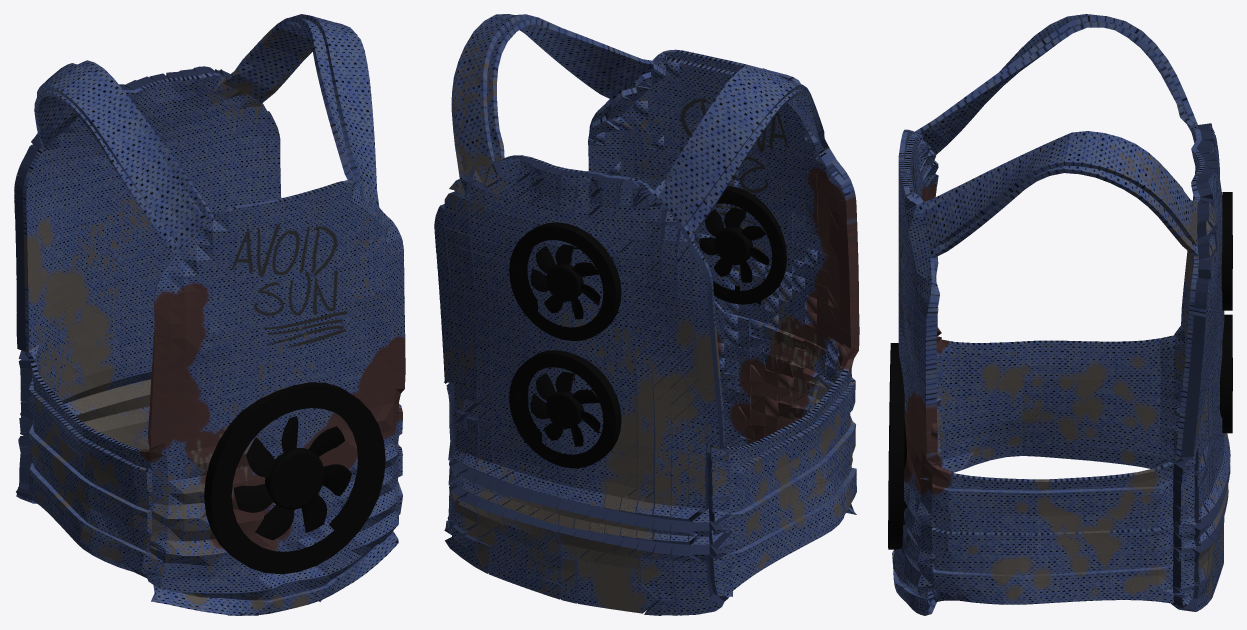
The model's file is vest_final1.glb.
The picture shows the model from 3 angles, left to right: view 1: azimuth 30°, elevation 25°; view 2: azimuth 150°, elevation 25°; view 3: azimuth 270°, elevation 25°; orthographic projection. The views are drawn at different scales.
Visible parts, largest first — view 1: MMAC_01 - Default_0, pc_fan.003; view 2: MMAC_01 - Default_0, pc_fan.002, pc_fan.001, pc_fan; view 3: MMAC_01 - Default_0, pc_fan.003, pc_fan.002, pc_fan.001.
Boxes of the visible parts, x1=… form: MMAC_01 - Default_0: x1=14, y1=14, x2=405, y2=615; pc_fan.003: x1=204, y1=382, x2=385, y2=574; MMAC_01 - Default_0: x1=434, y1=14, x2=859, y2=615; pc_fan.002: x1=509, y1=350, x2=621, y2=468; pc_fan.001: x1=509, y1=222, x2=621, y2=340; pc_fan: x1=699, y1=186, x2=786, y2=304; MMAC_01 - Default_0: x1=892, y1=14, x2=1230, y2=615; pc_fan.003: x1=888, y1=343, x2=907, y2=549; pc_fan.002: x1=1219, y1=314, x2=1232, y2=433; pc_fan.001: x1=1221, y1=192, x2=1232, y2=310.
Size of the model in its own units: 0.3182 by 0.4964 by 0.3037.
Materials: 2 (1 with a texture image).
